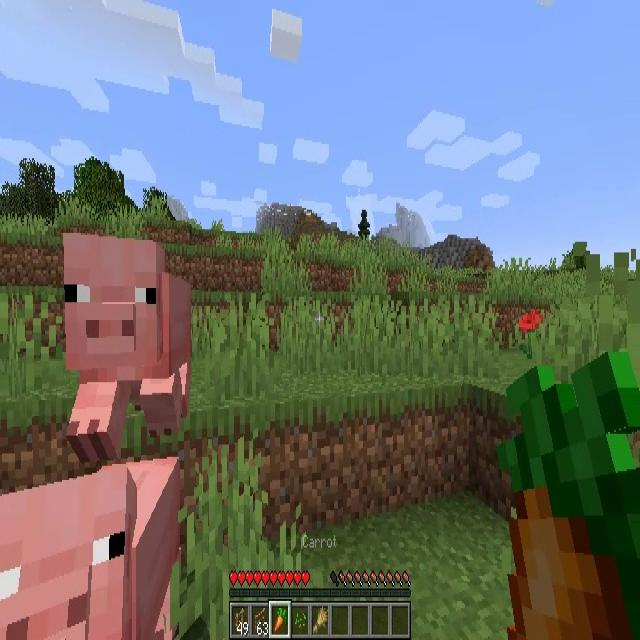pig: (0, 459, 178, 640), (63, 236, 192, 467)
